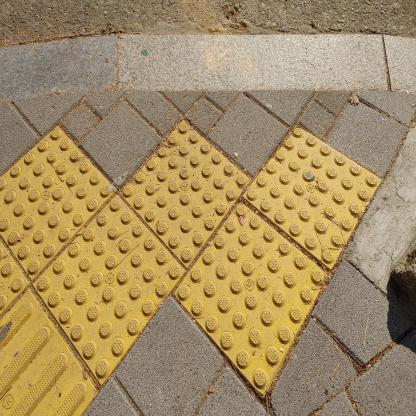podotacti: (0, 112, 389, 415)
